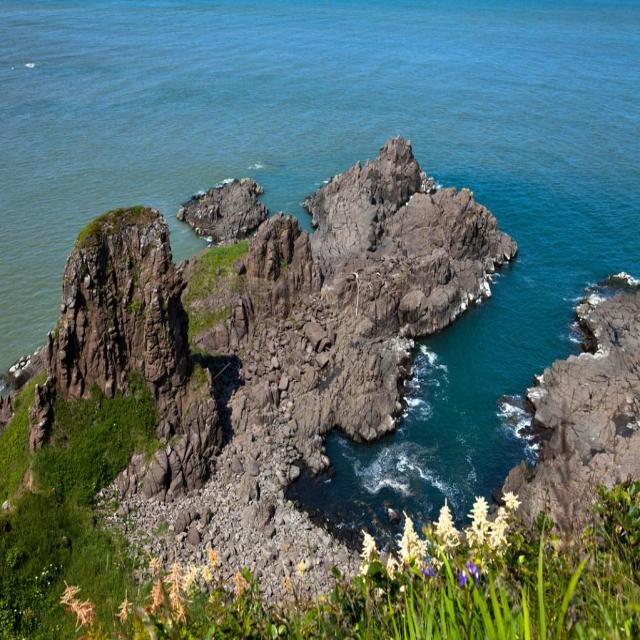reef: (175, 164, 265, 253)
